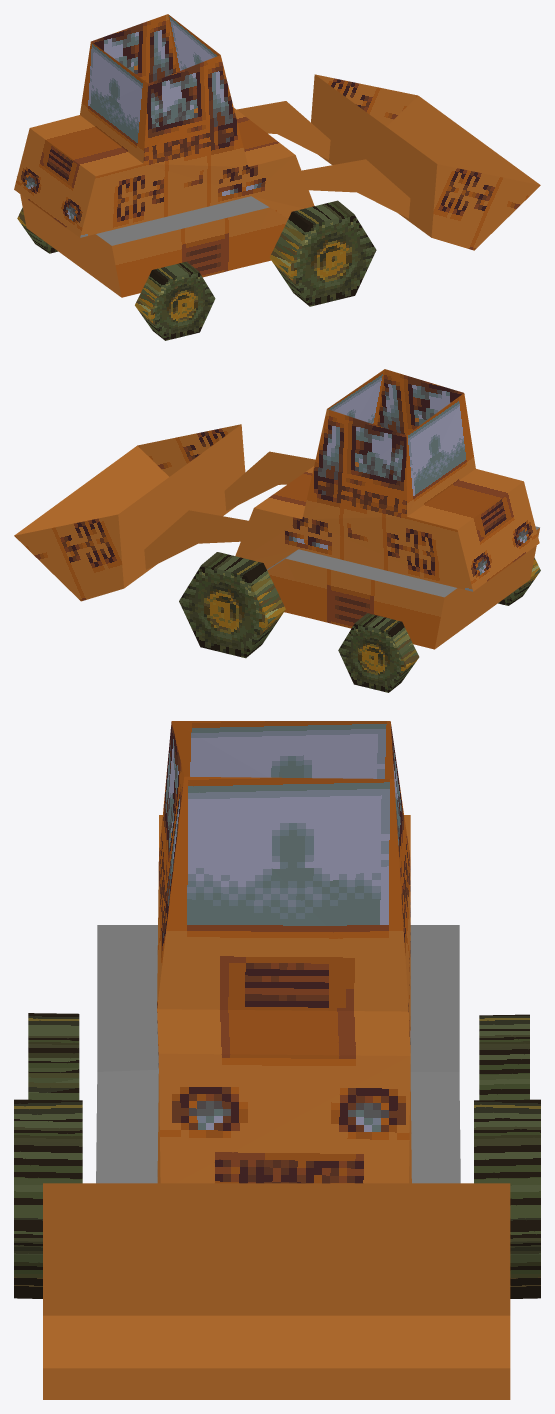
The picture shows the model from 3 angles, top to bottom: view 1: azimuth 30°, elevation 25°; view 2: azimuth 150°, elevation 25°; view 3: azimuth 270°, elevation 25°; orthographic projection. The views are drawn at different scales.
Visible parts, largest first — view 1: obj-191; view 2: obj-191; view 3: obj-191.
Boxes of the visible parts, <box> form: obj-191: <box>14,14,540,340</box>; obj-191: <box>14,369,540,692</box>; obj-191: <box>14,721,540,1399</box>.
Bounding box in the file's own units: 0.5107 × 0.2637 × 0.2842.
Materials: 1 (1 with a texture image).
